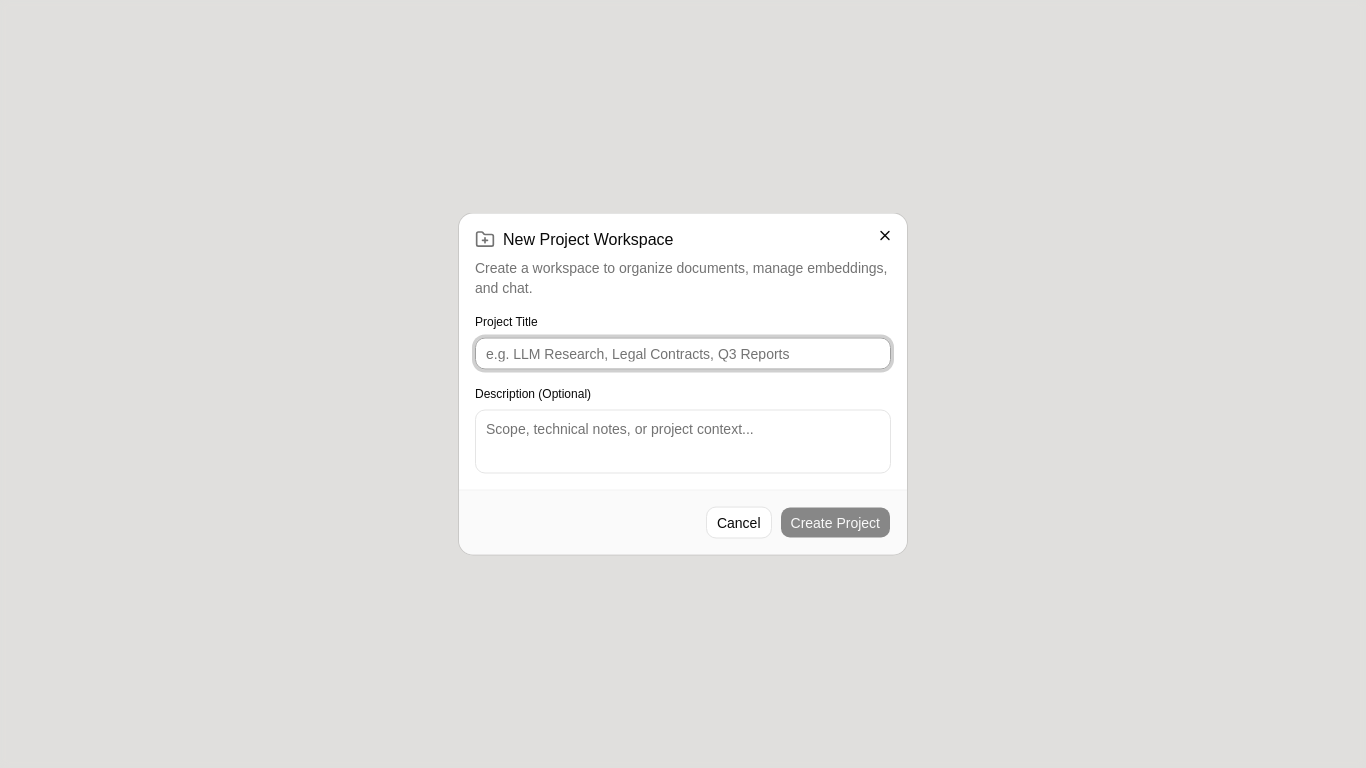
Test case: NewProjectModal component › displays error message when API fails
Type "Fail Project" into the field labelled "Project Title".
click(683, 354); type("Fail Project")  # box [475,338,891,370]
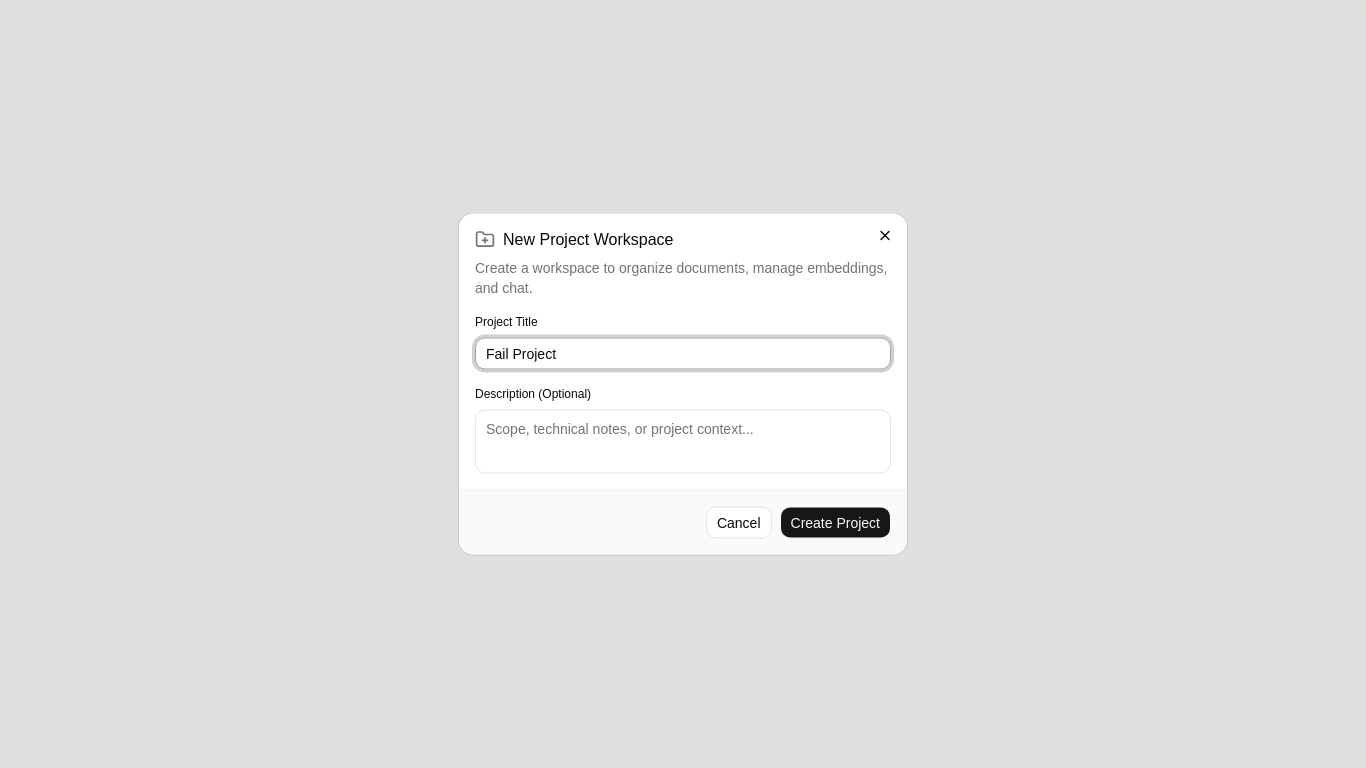
Click the button "Create Project".
click(835, 522)  # box [780,506,891,538]
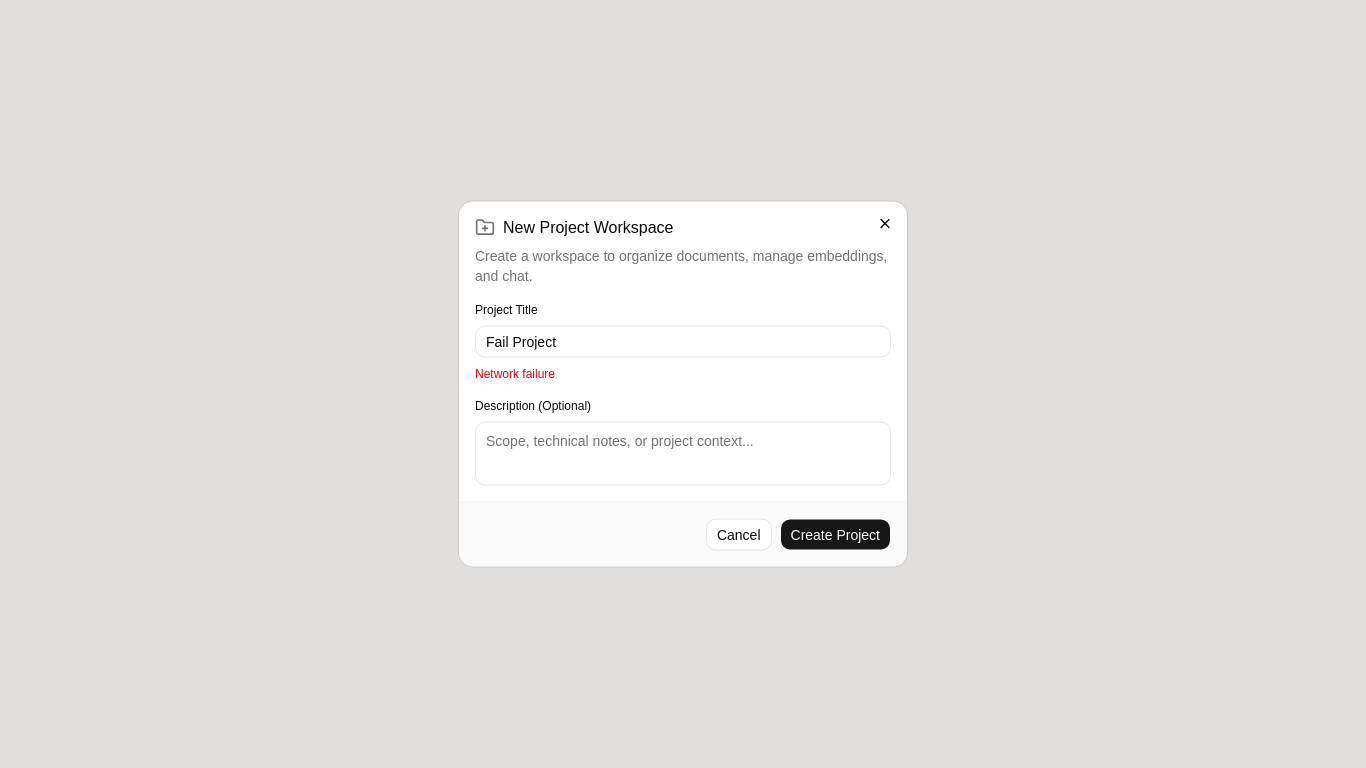
Result: the text "Network failure" is shown at [475,366,555,380]
